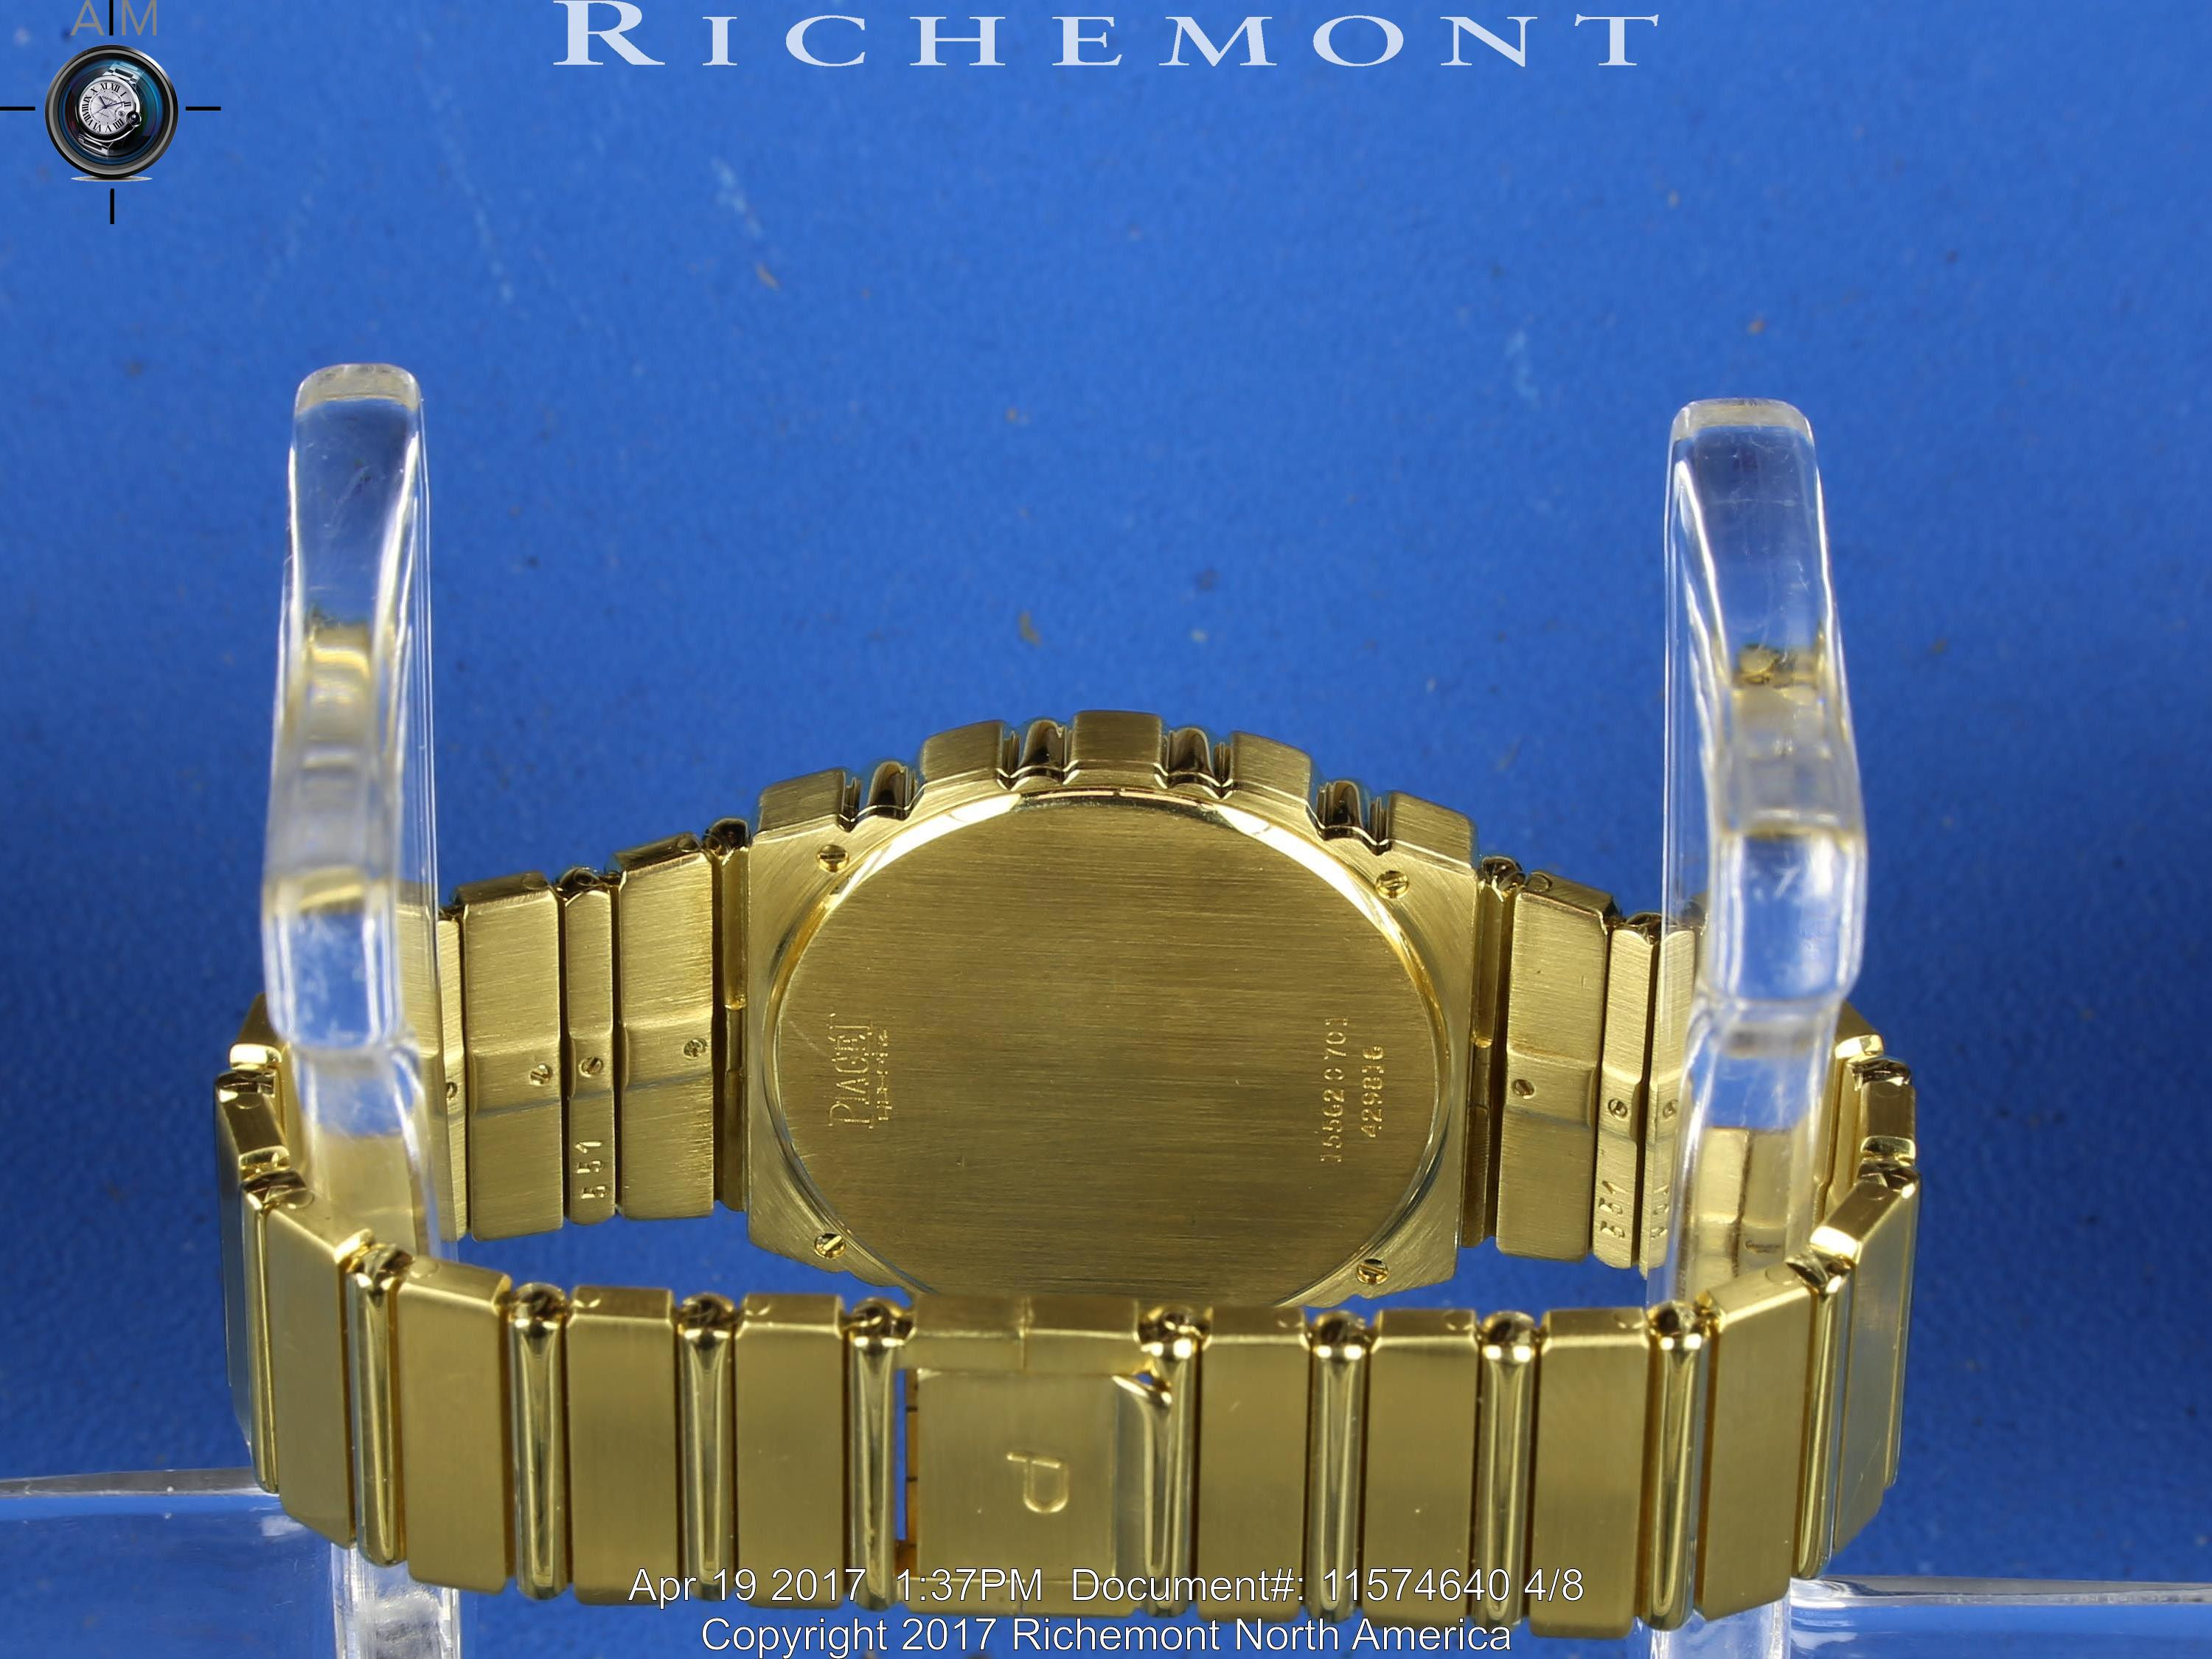Watch BackCase: (735, 711, 1489, 1319)
